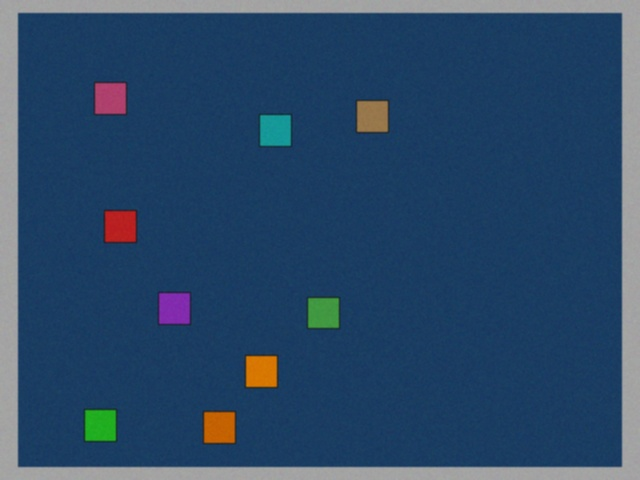block: (84, 400, 127, 442), (94, 83, 137, 121), (203, 402, 240, 443), (159, 290, 198, 325), (105, 210, 147, 242), (245, 349, 280, 387), (355, 101, 389, 139), (259, 114, 293, 151), (308, 294, 339, 329)
